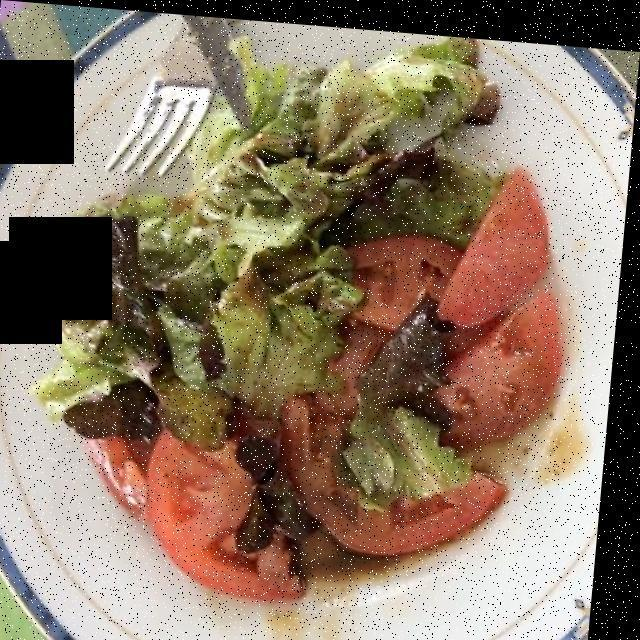salad: (15, 41, 519, 516)
tomato: (87, 410, 522, 597), (342, 146, 563, 444)
